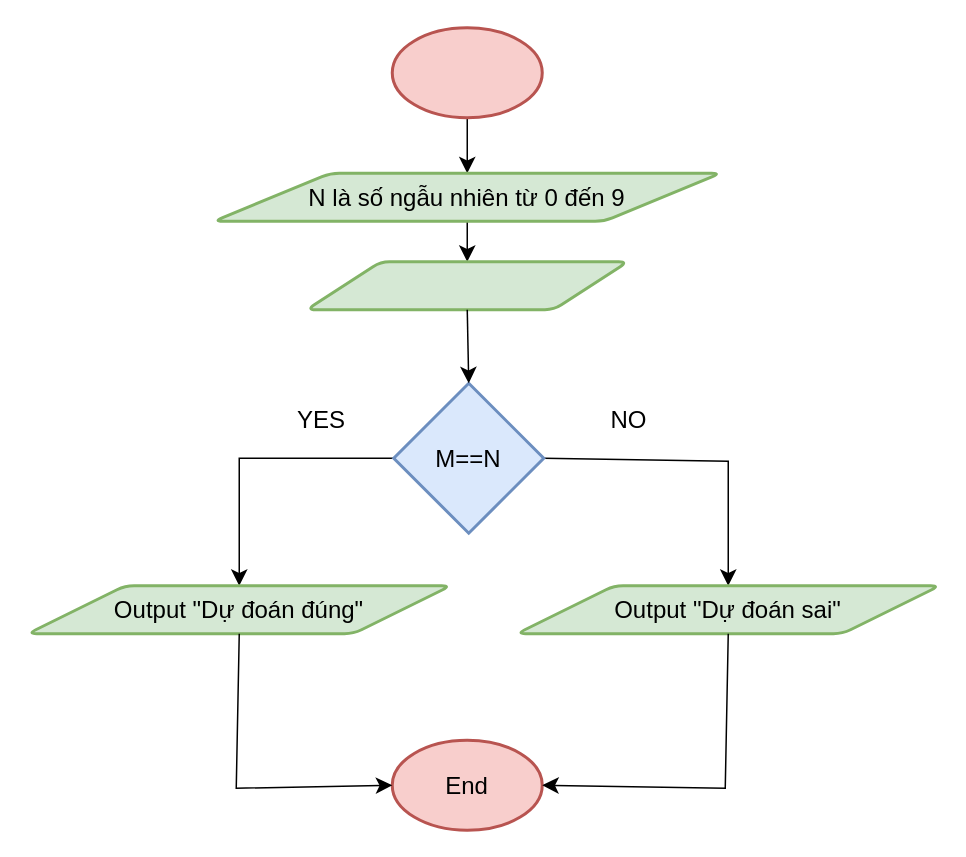
This 966x857 diagram has some shape labels left out. Here are the shapes that lost their labels. From the top down, the centre of each, then its label:
point (466, 72): Begin
point (466, 285): Input M
